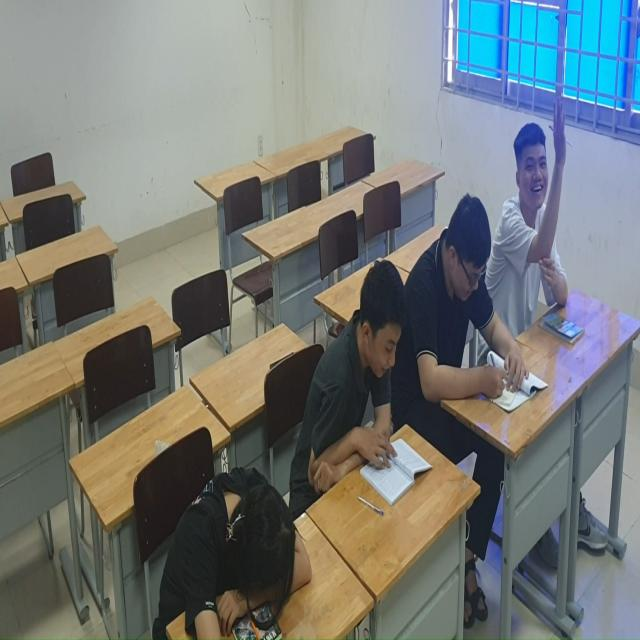raise_hand: (498, 89, 601, 336)
read: (290, 255, 421, 504), (417, 184, 529, 431)
sleep: (169, 481, 311, 640)
